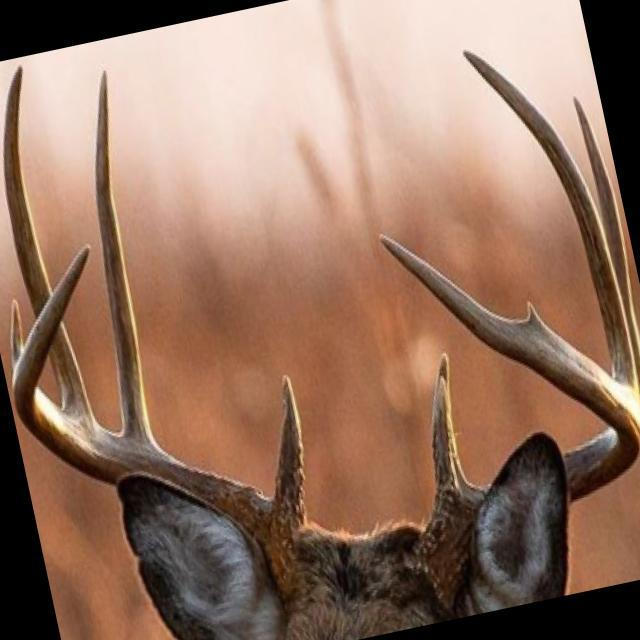L-G1: (430, 347, 476, 507)
L-G2: (459, 48, 640, 390)
R-F: (10, 241, 310, 603)
R-G1: (274, 367, 308, 522)
R-G2: (94, 66, 156, 442)
R-G4: (8, 293, 23, 377)
